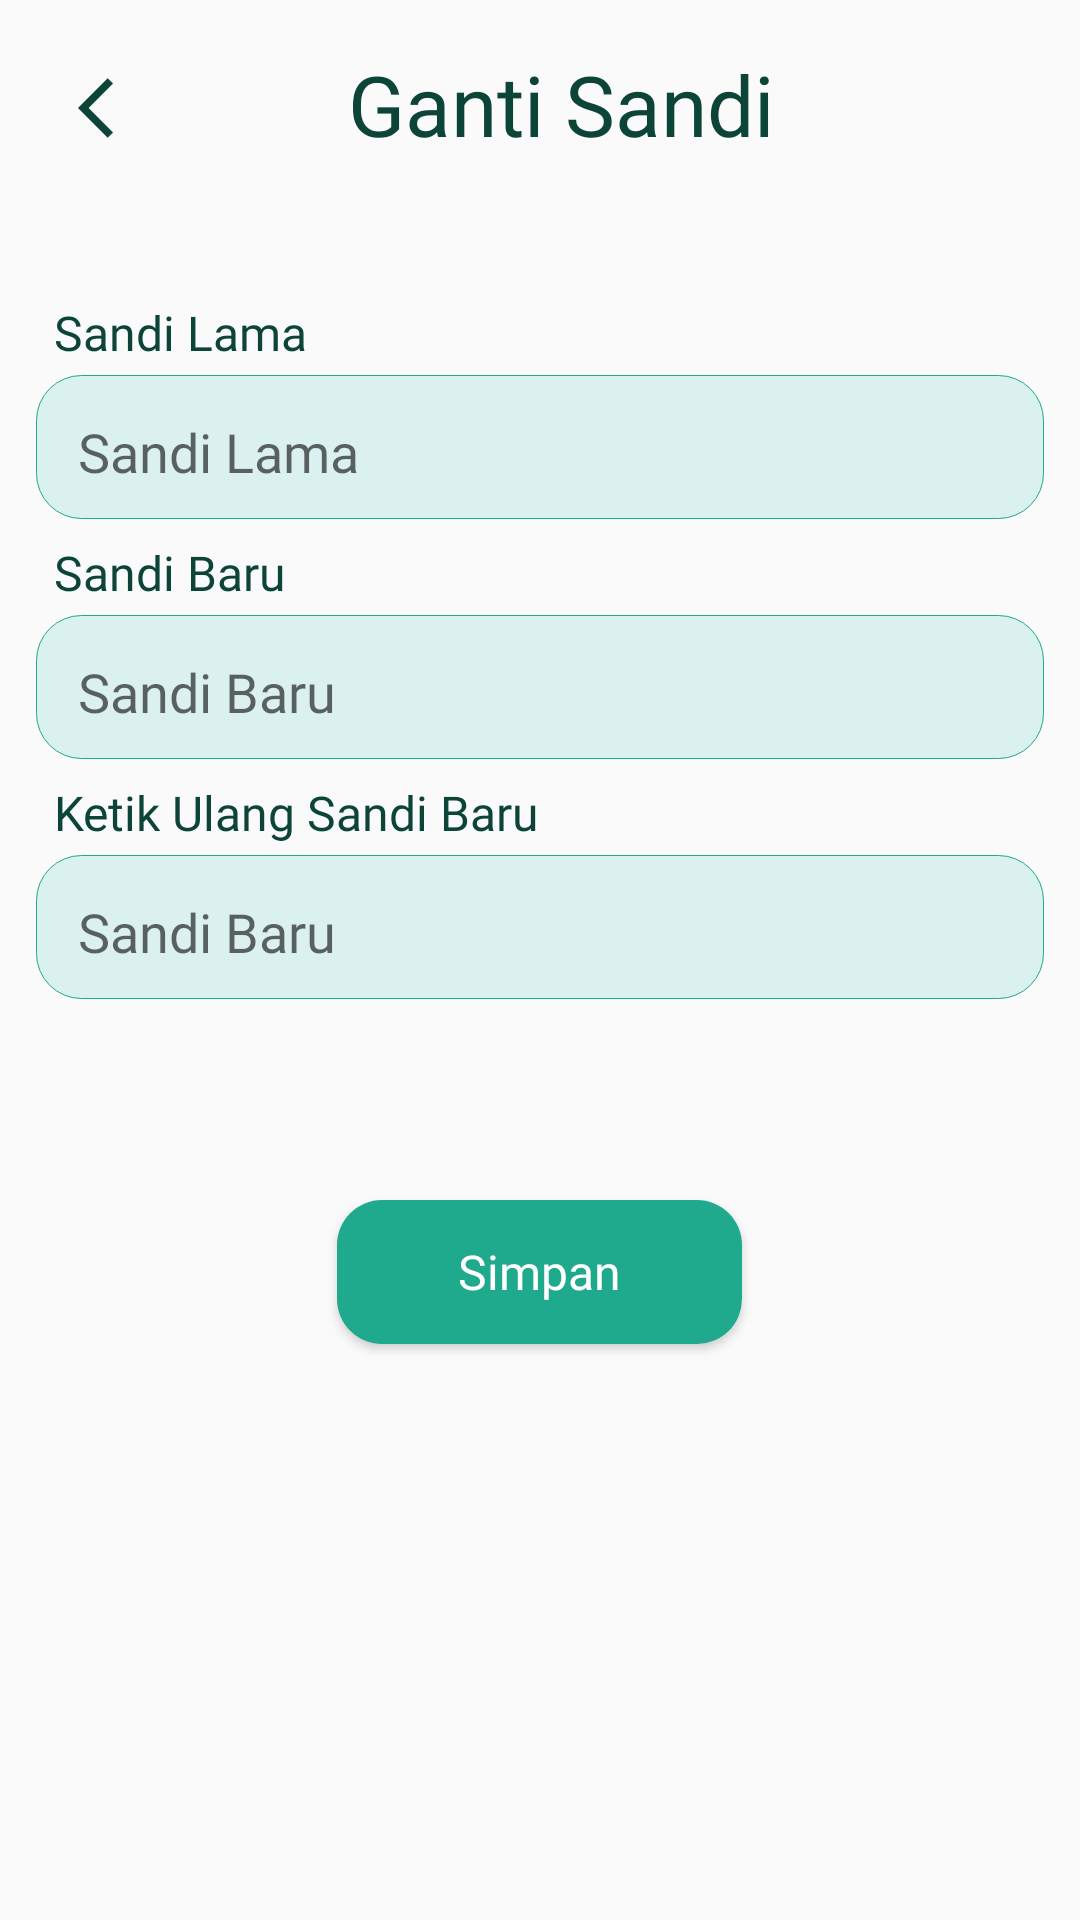

Locate icon controls on the screen. Image size 1080 x 1920, boxes as [left=x1, top=y1, right=x2, bottom=y2].
back: [left=78, top=78, right=113, bottom=138]
